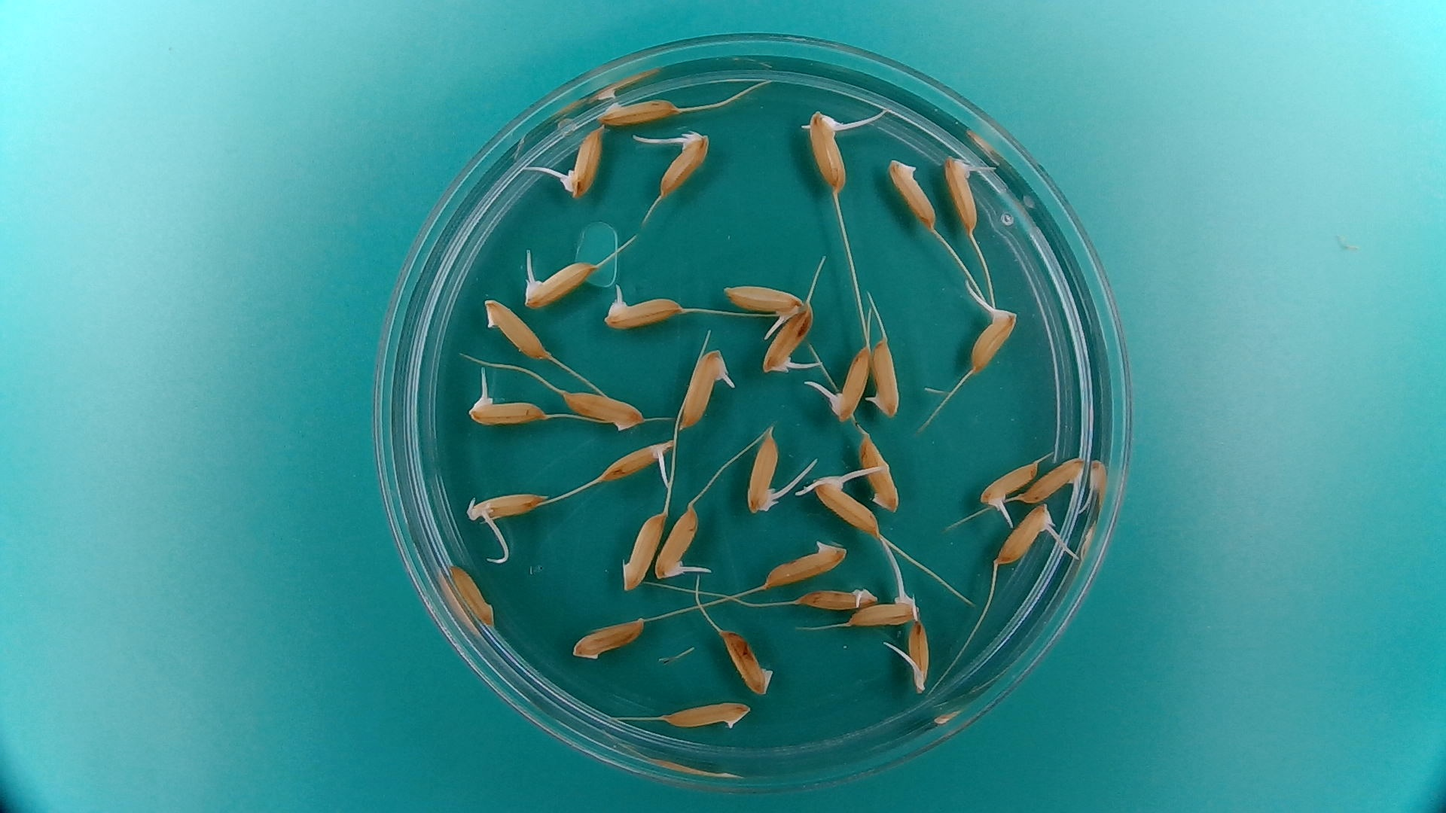no: (759, 536, 849, 590), (480, 297, 551, 362), (716, 626, 776, 696), (856, 432, 906, 515), (560, 388, 646, 434), (620, 510, 667, 594), (655, 696, 754, 735), (569, 615, 648, 662), (886, 160, 938, 230), (447, 561, 496, 629), (594, 90, 682, 126)
yes: (676, 348, 731, 431), (810, 476, 880, 537), (993, 501, 1057, 567), (655, 126, 712, 199), (718, 279, 808, 324), (654, 499, 701, 582), (597, 439, 676, 486), (760, 306, 813, 376), (517, 260, 590, 309), (827, 340, 872, 419), (804, 113, 850, 189), (1019, 455, 1088, 505), (966, 309, 1017, 376), (865, 332, 903, 419), (980, 457, 1042, 510), (599, 291, 679, 332), (941, 153, 979, 236), (463, 486, 548, 523), (744, 432, 781, 517), (565, 123, 606, 196), (847, 591, 920, 627), (465, 392, 541, 425), (795, 583, 878, 612), (905, 617, 932, 687)
